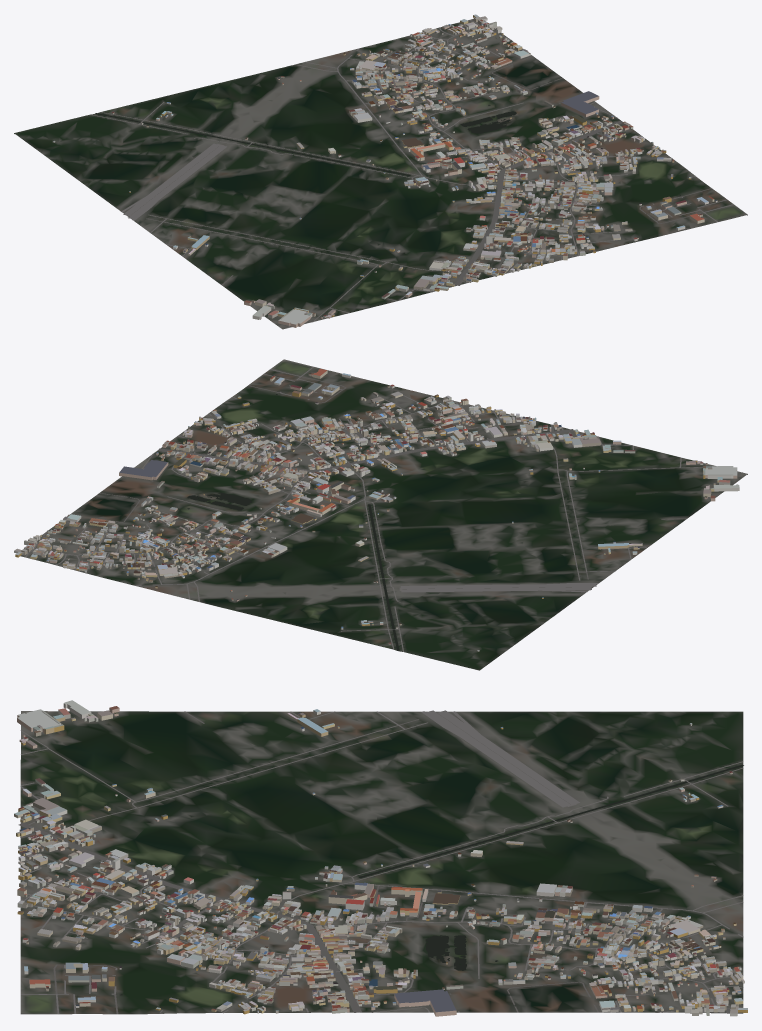
3 views of the same model, one above another, from view 1: azimuth 30°, elevation 25°; view 2: azimuth 150°, elevation 25°; view 3: azimuth 270°, elevation 25° (orthographic). The views are drawn at different scales.
Visible parts, largest first — view 1: ground, buildings, roads, water; view 2: ground, buildings, roads, water; view 3: ground, buildings, roads, water.
Boxes of the visible parts, x1,y1,x2,y2 form: ground: (14, 19, 747, 329); buildings: (52, 14, 717, 327); roads: (90, 20, 733, 328); water: (95, 105, 698, 195); ground: (20, 359, 747, 670); buildings: (14, 368, 739, 651); roads: (25, 366, 742, 651); water: (187, 391, 399, 650); ground: (20, 711, 743, 1014); buildings: (14, 700, 747, 1016); roads: (18, 710, 743, 1014); water: (120, 764, 743, 1008).
Size of the model in its own units: 1449 by 26.28 by 1423.
